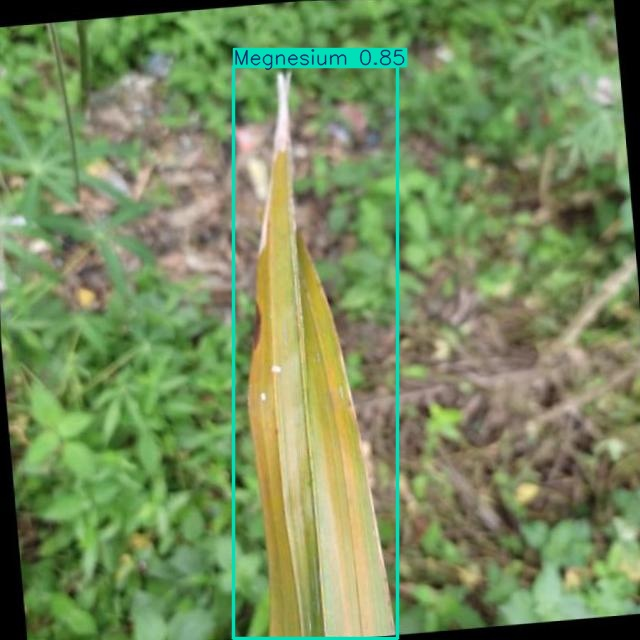Megnesium: (233, 66, 397, 639)
